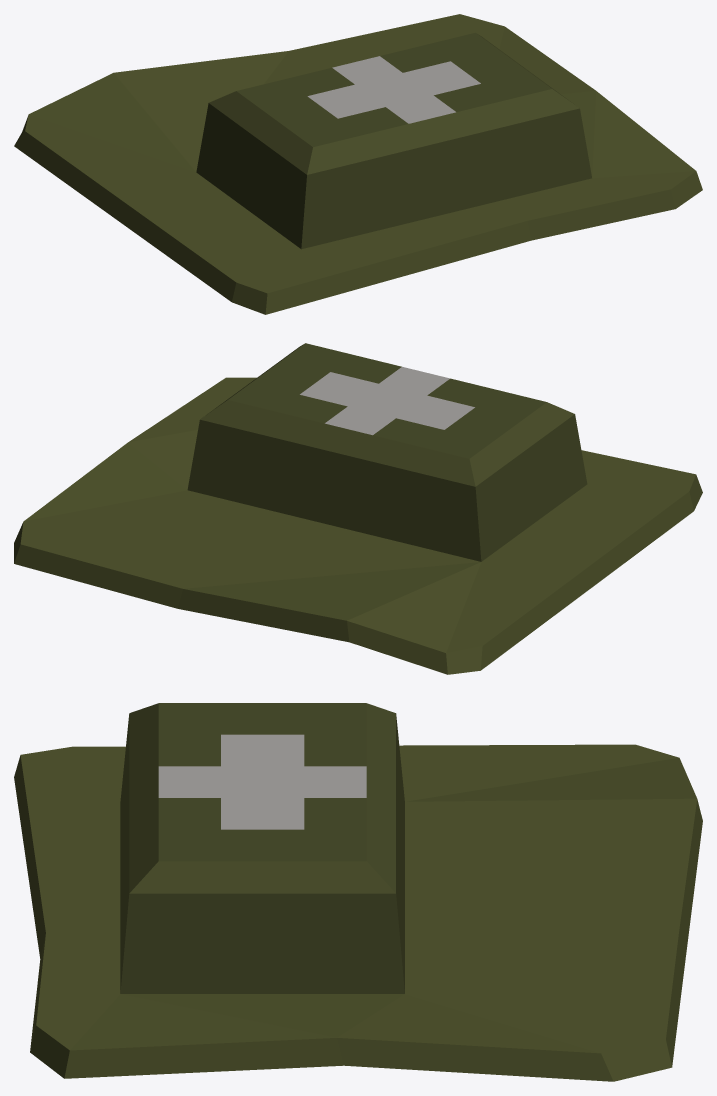
Rendered from SM_Prop_Gauze_01.fbx.
3 views of the same model, one above another, from view 1: azimuth 30°, elevation 25°; view 2: azimuth 150°, elevation 25°; view 3: azimuth 270°, elevation 25° (orthographic). The views are drawn at different scales.
Parts seen in each view (by area): view 1: SM_Prop_Gauze_01; view 2: SM_Prop_Gauze_01; view 3: SM_Prop_Gauze_01.
Part boxes in pixels (x1,y1,x2,y2): SM_Prop_Gauze_01: (14, 14, 702, 314); SM_Prop_Gauze_01: (14, 343, 702, 674); SM_Prop_Gauze_01: (14, 703, 702, 1081).
Bounding box in the file's own units: 35.54 × 7.41 × 32.86.
